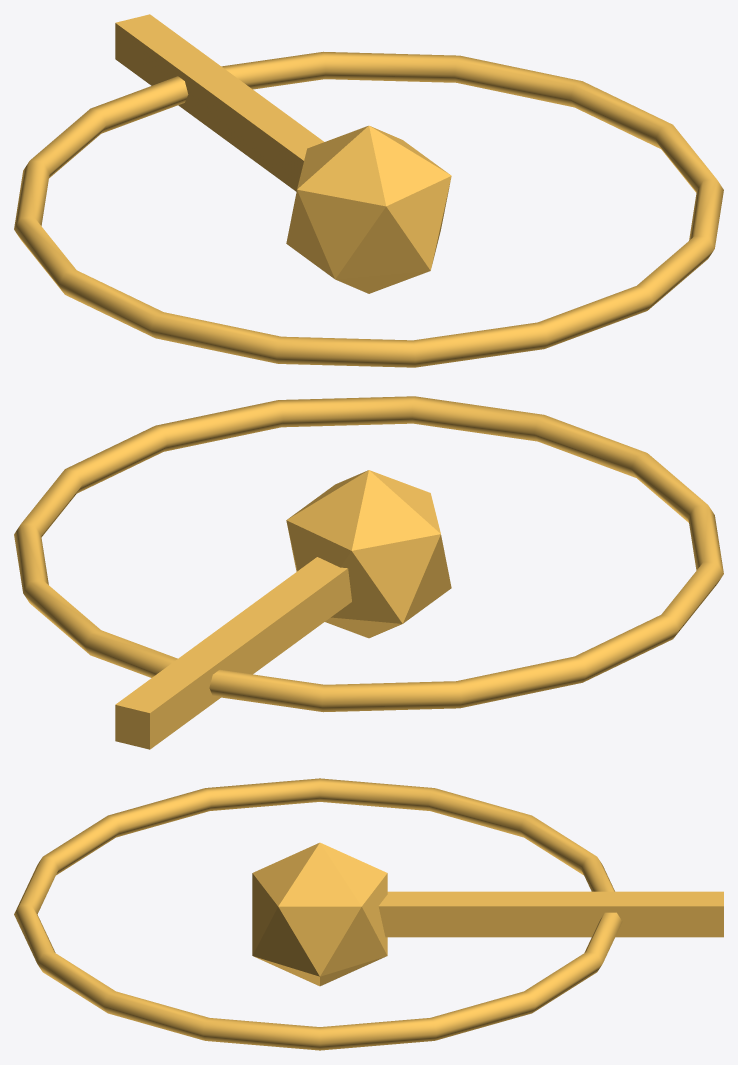
The model's file is SteeringGyro.obj.
3 views of the same model, one above another, from view 1: azimuth 30°, elevation 25°; view 2: azimuth 150°, elevation 25°; view 3: azimuth 270°, elevation 25° (orthographic). The views are drawn at different scales.
Parts seen in each view (by area): view 1: Gyro, Part; view 2: Gyro, Part; view 3: Gyro, Part.
Part boxes in pixels (left/top/right/bottom): Gyro: left=14, top=51, right=723, bottom=367; Part: left=115, top=14, right=323, bottom=191; Gyro: left=14, top=396, right=723, bottom=712; Part: left=115, top=557, right=351, bottom=749; Gyro: left=14, top=778, right=622, bottom=1050; Part: left=378, top=891, right=723, bottom=937.
Size of the model in its own units: 0.89 by 0.2311 by 1.03.
